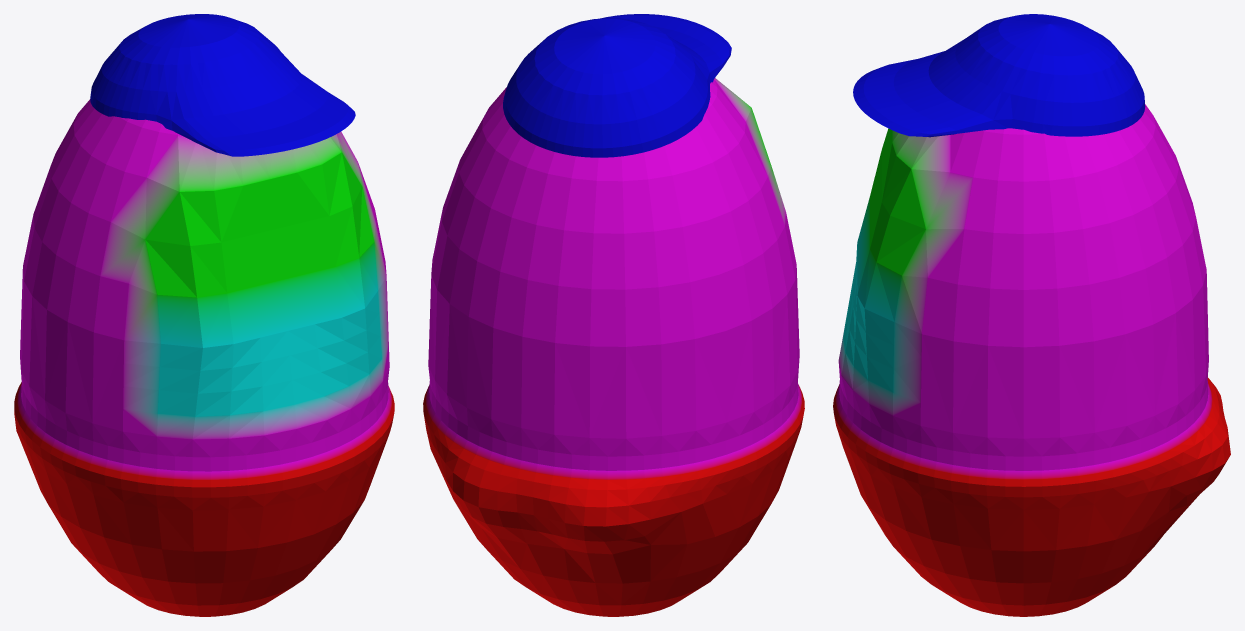
Rendered from buddyBall2.fbx.
The picture shows the model from 3 angles, left to right: view 1: azimuth 30°, elevation 25°; view 2: azimuth 150°, elevation 25°; view 3: azimuth 270°, elevation 25°; orthographic projection.
Visible parts, largest first — view 1: bake; view 2: bake; view 3: bake.
Boxes of the visible parts, left/top/right/bottom form: bake: left=14, top=14, right=394, bottom=616; bake: left=423, top=14, right=804, bottom=616; bake: left=833, top=14, right=1230, bottom=616.
Size of the model in its own units: 205 by 343 by 213.
